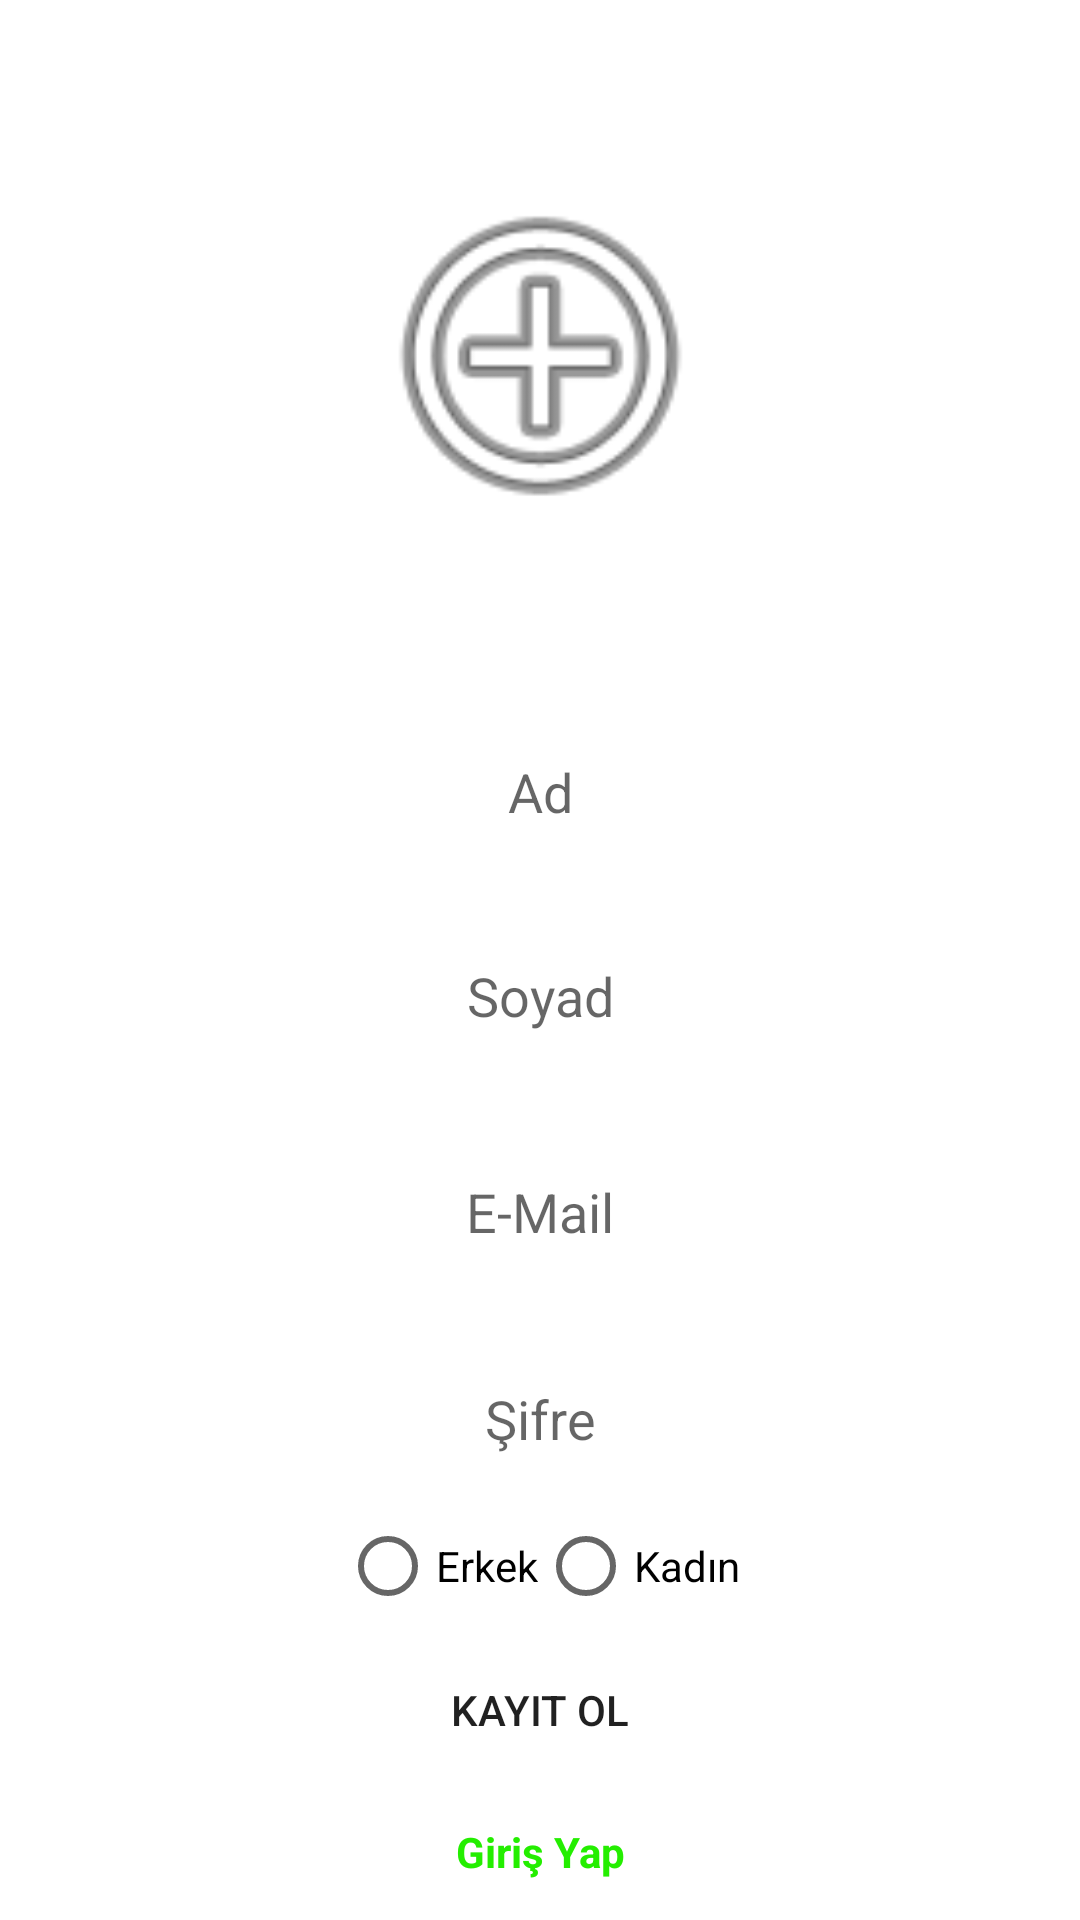

Icon click points for this 1080×1920 phone screenshot, format (x,y):
add: (540,355)
